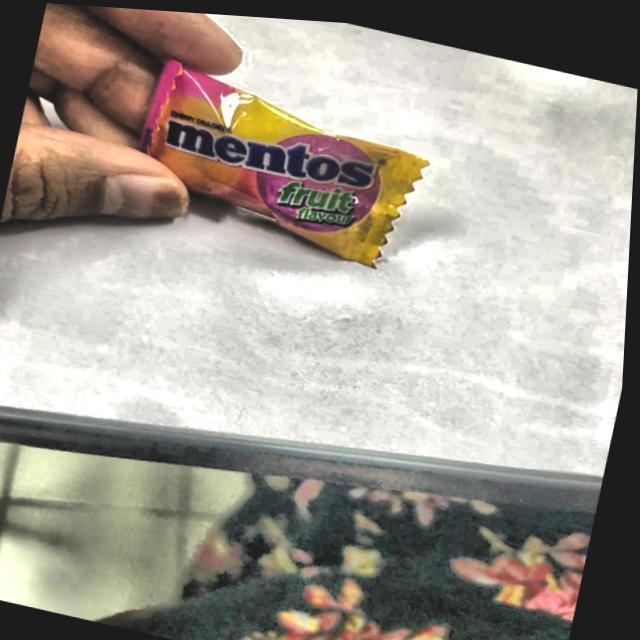Plastic: (107, 34, 453, 273)
